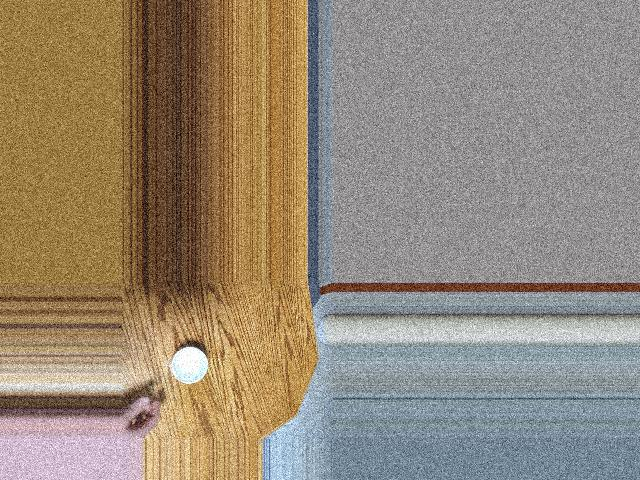cotage: (163, 348, 210, 389)
